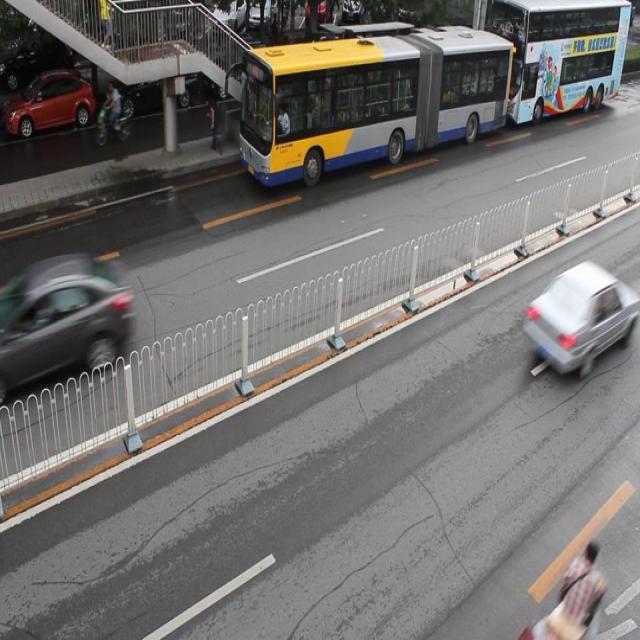car: (1, 250, 130, 390), (523, 262, 626, 376), (1, 70, 96, 136), (104, 56, 198, 112), (207, 38, 277, 102), (291, 40, 363, 97)
van: (241, 21, 512, 178), (485, 1, 630, 119)
